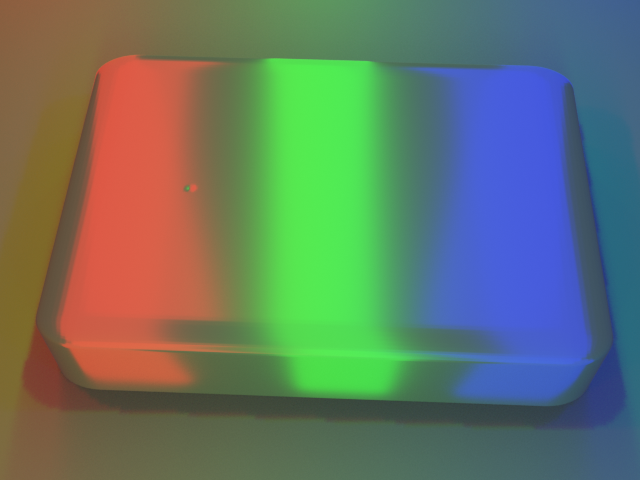dent: (158, 169, 195, 199)
